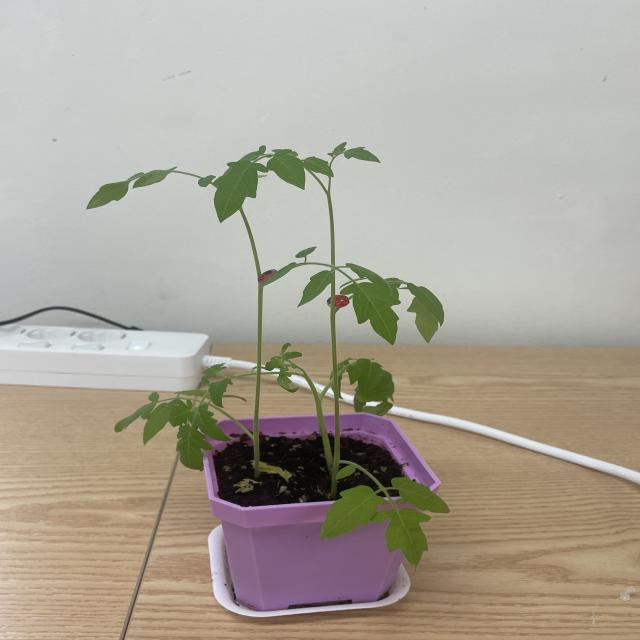bug: (315, 282, 360, 328), (245, 257, 288, 297)
